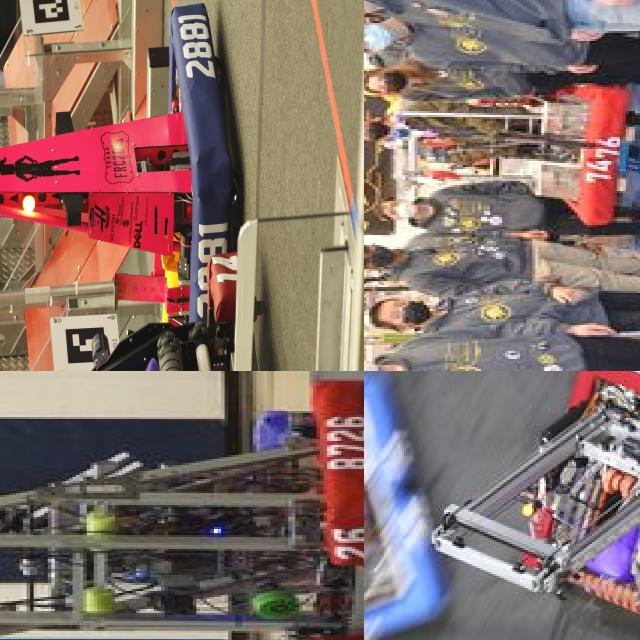FRC-Robots: (0, 371, 364, 640), (0, 0, 238, 301), (458, 371, 640, 627), (368, 68, 632, 222), (32, 286, 308, 371), (364, 371, 418, 640)
